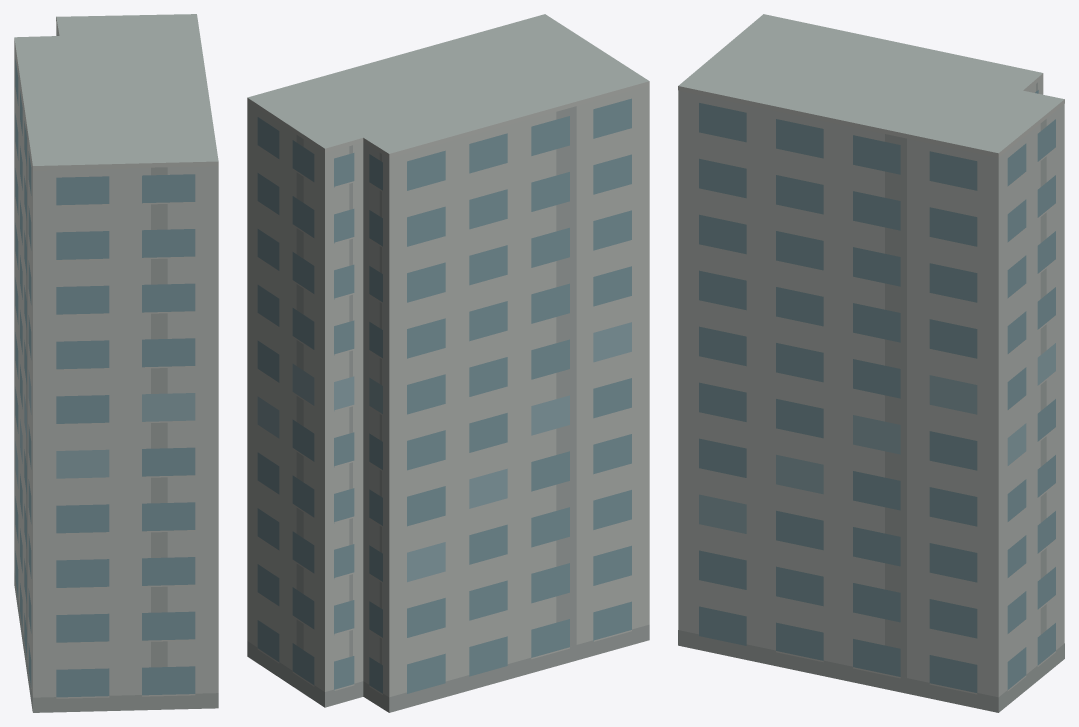
File: survey-upis-32829146.glb
The picture shows the model from 3 angles, left to right: view 1: azimuth 30°, elevation 25°; view 2: azimuth 150°, elevation 25°; view 3: azimuth 270°, elevation 25°; orthographic projection. The views are drawn at different scales.
Parts seen in each view (by area): view 1: survey-upis-32829146.tmp; view 2: survey-upis-32829146.tmp; view 3: survey-upis-32829146.tmp.
Boxes of the visible parts, x1,y1,x2,y2 form: survey-upis-32829146.tmp: (14, 14, 218, 712); survey-upis-32829146.tmp: (247, 14, 649, 712); survey-upis-32829146.tmp: (678, 14, 1064, 712).
Size of the model in its own units: 16.13 by 30.2 by 18.92.
